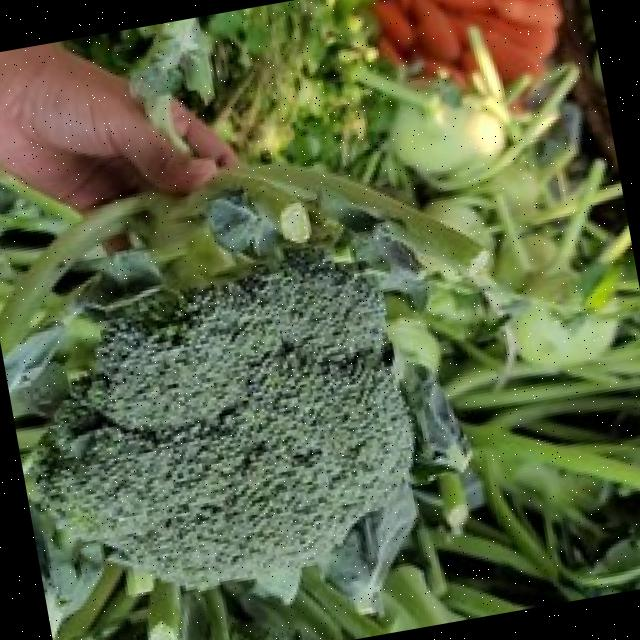Broccoli: (37, 252, 411, 588), (38, 252, 411, 587)
